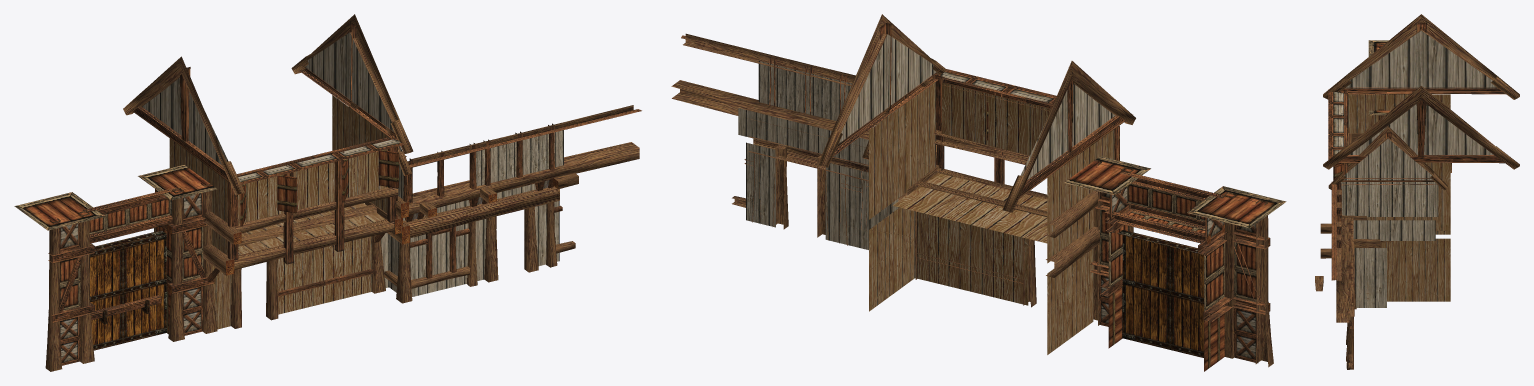
The model's file is LAKETOWN_EXTERIOR_PS_LT_GATEHOUSE9947__GX.fbx.
3 views of the same model, side by side, from view 1: azimuth 30°, elevation 25°; view 2: azimuth 150°, elevation 25°; view 3: azimuth 270°, elevation 25° (orthographic). The views are drawn at different scales.
Parts seen in each view (by area): view 1: LAKETOWN_EXTERIOR_PS_LT_GATEHOUSE9947__GX; view 2: LAKETOWN_EXTERIOR_PS_LT_GATEHOUSE9947__GX; view 3: LAKETOWN_EXTERIOR_PS_LT_GATEHOUSE9947__GX.
Part boxes in pixels (bbox=[...]): LAKETOWN_EXTERIOR_PS_LT_GATEHOUSE9947__GX: bbox=[14, 14, 641, 371]; LAKETOWN_EXTERIOR_PS_LT_GATEHOUSE9947__GX: bbox=[671, 14, 1286, 371]; LAKETOWN_EXTERIOR_PS_LT_GATEHOUSE9947__GX: bbox=[1315, 14, 1519, 369].
Bounding box in the file's own units: 213758 × 92040 × 78081.
15 materials, 15 textured.
